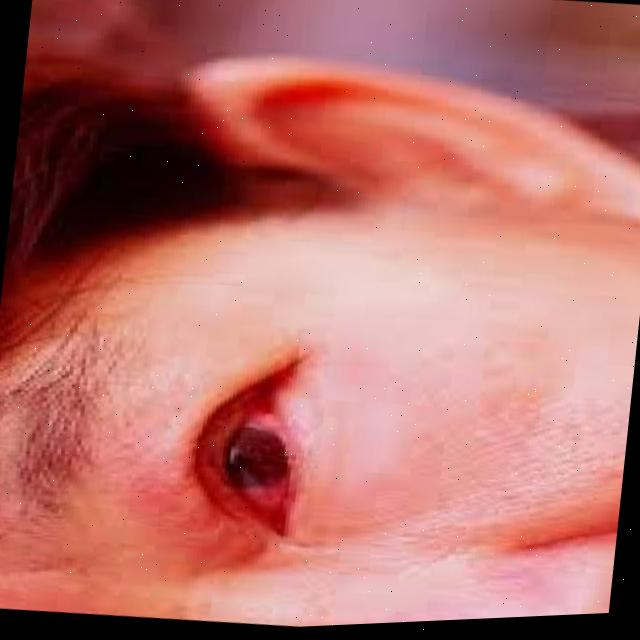Rosacea: (172, 371, 312, 572)
